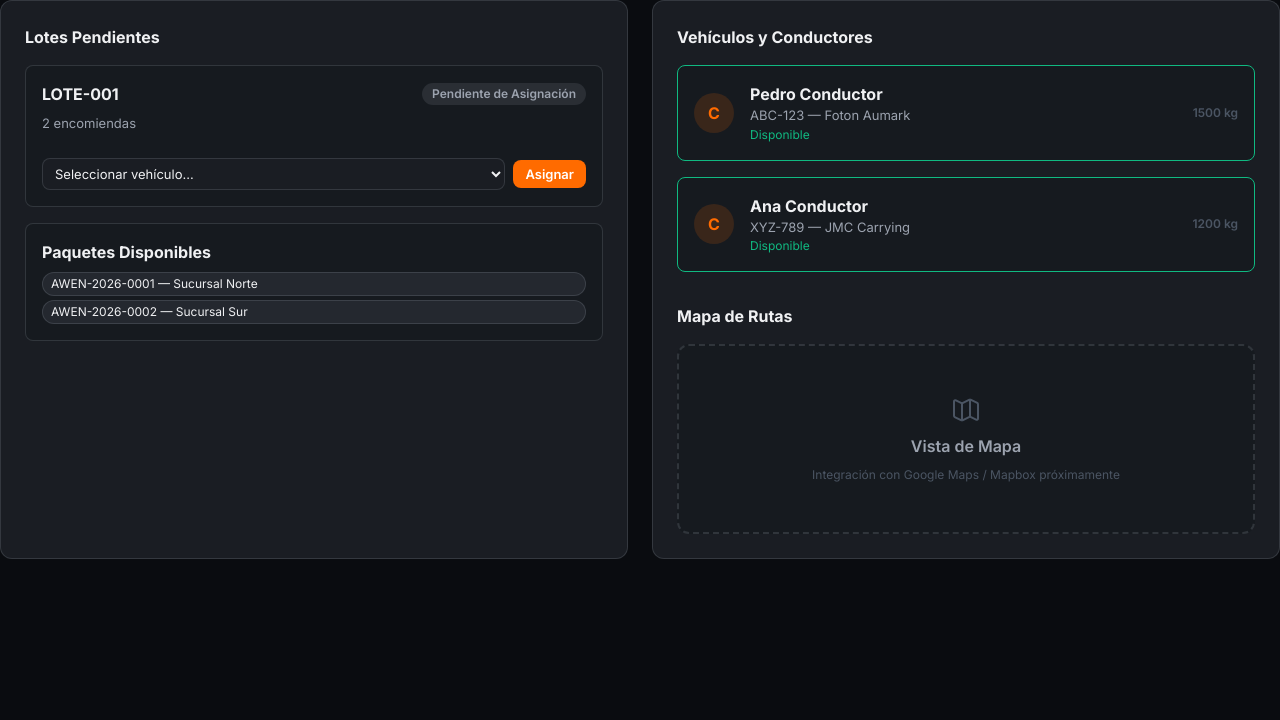
Scenario: Logistics › crea un lote con las encomiendas seleccionadas
Expected: the text "LOTE-001" is shown, [42,82,119,106]
What coordinates should you click on to do the following:
click the checkbox labelled "AWEN-2026-0001 — Sucursal Norte"
I would click on:
 (103, 283)
Its box is [42,272,586,296].
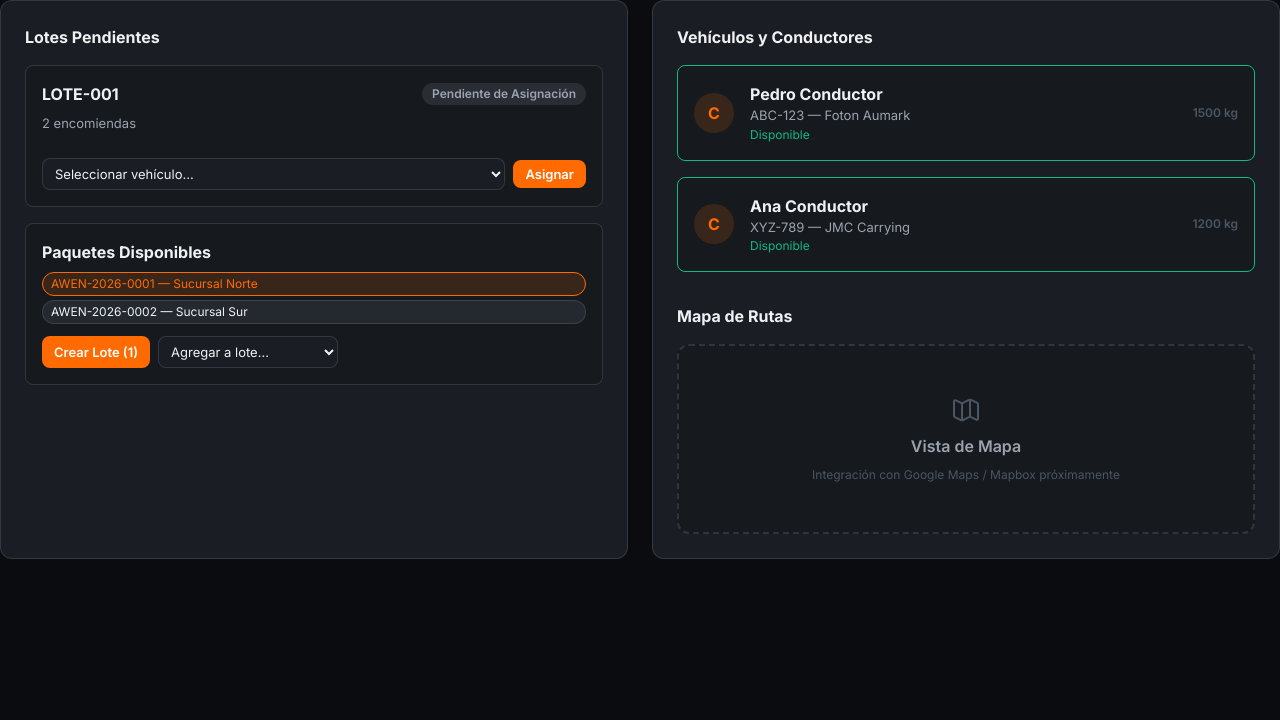
What coordinates should you click on to do the following:
click the button "Crear Lote (1)"
I would click on:
 (96, 352)
Its box is [42,336,150,368].
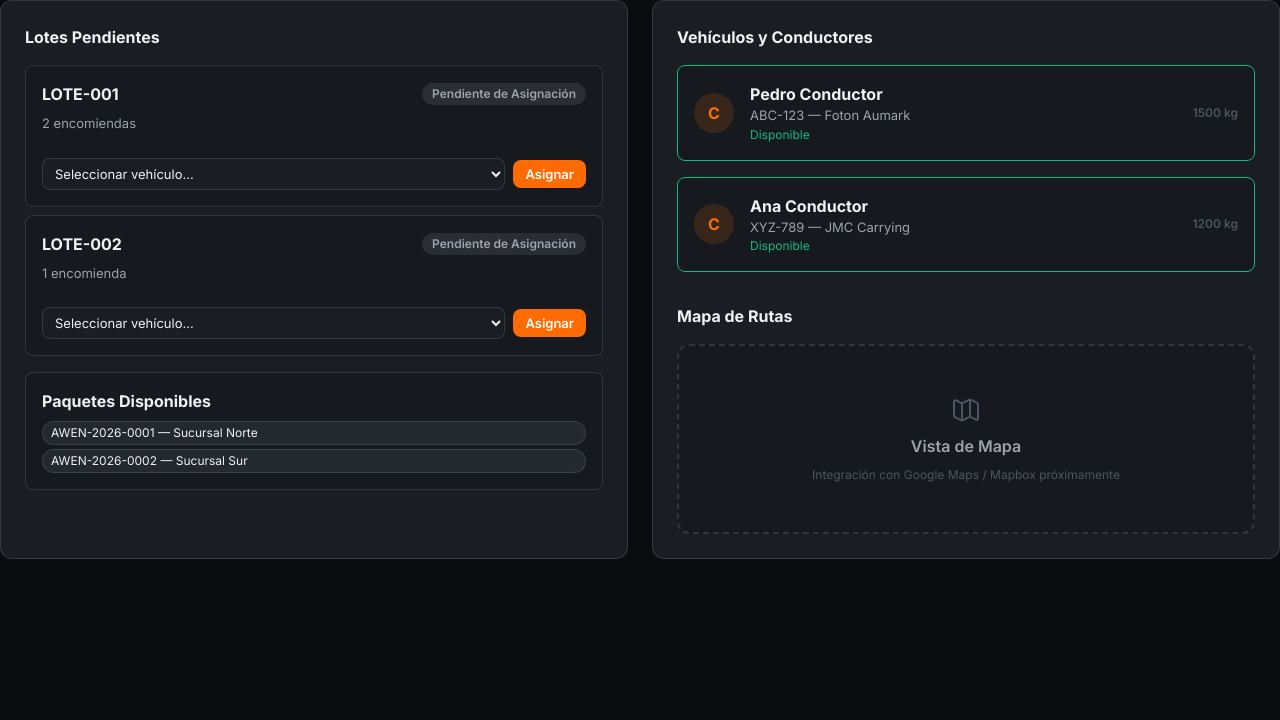
Expected: the text "LOTE-002" is shown, [42,232,122,256]
